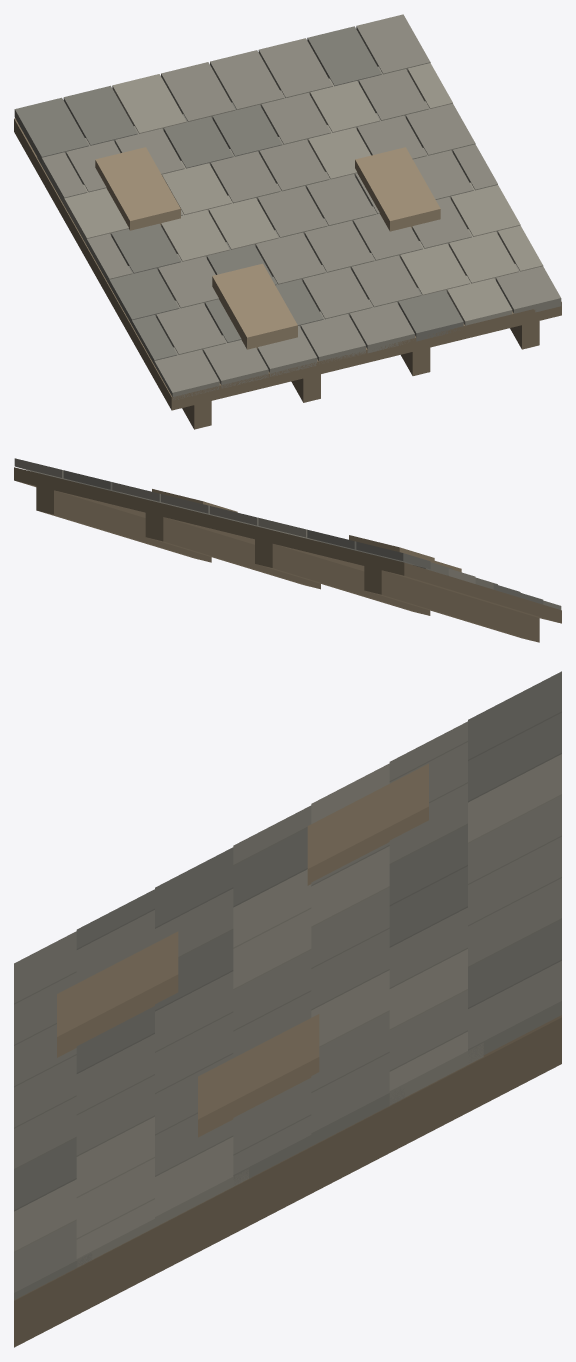
File: env_roof_shingle_fine_b_v03_scattered_repairs.glb
The picture shows the model from 3 angles, top to bottom: view 1: azimuth 30°, elevation 25°; view 2: azimuth 150°, elevation 25°; view 3: azimuth 270°, elevation 25°; orthographic projection. The views are drawn at different scales.
Visible parts, largest first — view 1: material_4, material_5, material_6, material_3, material_2; view 2: material_2, material_4, material_6, material_3, material_5; view 3: material_4, material_5, material_6, material_2, material_3.
Part boxes in pixels (<box>): material_4: <box>37,14,561,399</box>; material_5: <box>60,63,543,325</box>; material_6: <box>14,26,463,363</box>; material_3: <box>95,147,440,349</box>; material_2: <box>14,118,561,429</box>; material_2: <box>14,467,561,642</box>; material_4: <box>14,458,561,609</box>; material_6: <box>63,470,543,604</box>; material_3: <box>152,489,461,572</box>; material_5: <box>258,518,475,583</box>; material_4: <box>14,721,561,1300</box>; material_5: <box>14,754,561,1267</box>; material_6: <box>14,671,561,1211</box>; material_2: <box>14,1015,561,1347</box>; material_3: <box>57,763,428,1137</box>.
Size of the model in its own units: 2 by 1.03 by 1.4.
